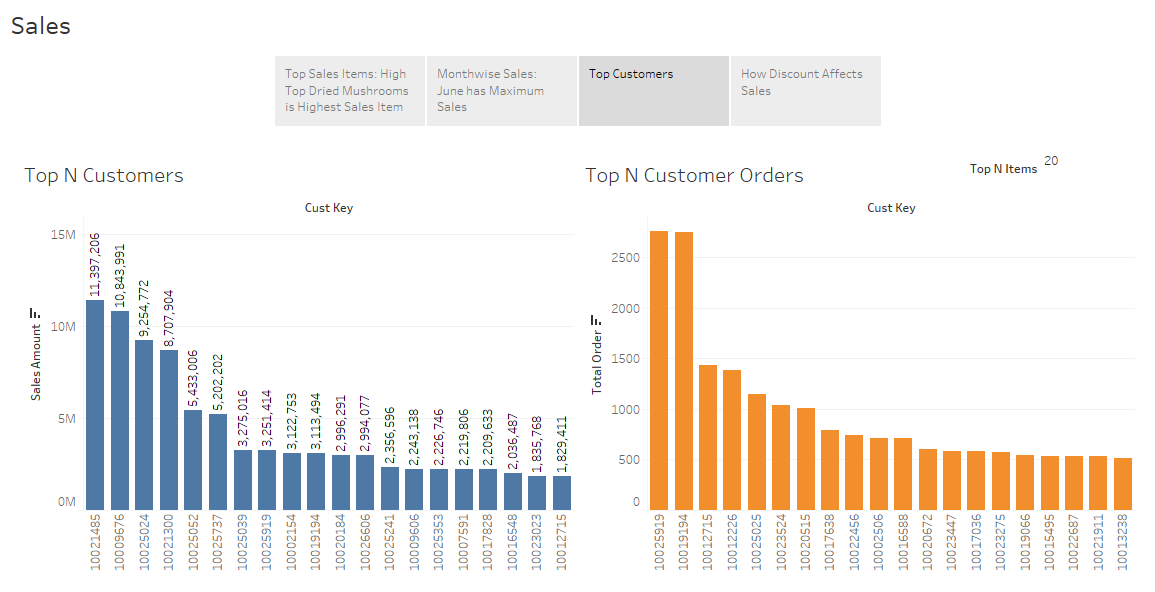

The dashboard page shown, as its layout file describes it:
{"tool":"tableau","page":{"name":"Top Customers","canvas":[1000,1000],"units":"permille","ordinal":2},"visuals":[{"type":"worksheet","title":"Top N Customers","mark":"Automatic","rows":["Sales Amount"],"cols":["CustKey"],"box":[6.9,13.5,493.1,973]},{"type":"worksheet","title":"Top N Customer Orders","mark":"Automatic","rows":["CustKey"],"cols":["CustKey"],"box":[500,13.5,493.1,973]},{"type":"parameter","param":"[Parameters].[Parameter 2]","box":[844.9,23.7,140.2,74.3]}]}

Visuals, with their boxes on the dashboard's canvas, which has no fixed pixel size, in thousandths of its width and height (x1, y1, x2, y2). These are canvas units, not pixel positions in the 1155x592 screenshot, which may show the page scaled, cropped or inside an application window:
"Top N Customers" worksheet: [left=7, top=14, right=500, bottom=986]
"Top N Customer Orders" worksheet: [left=500, top=14, right=993, bottom=986]
parameter: [left=845, top=24, right=985, bottom=98]
